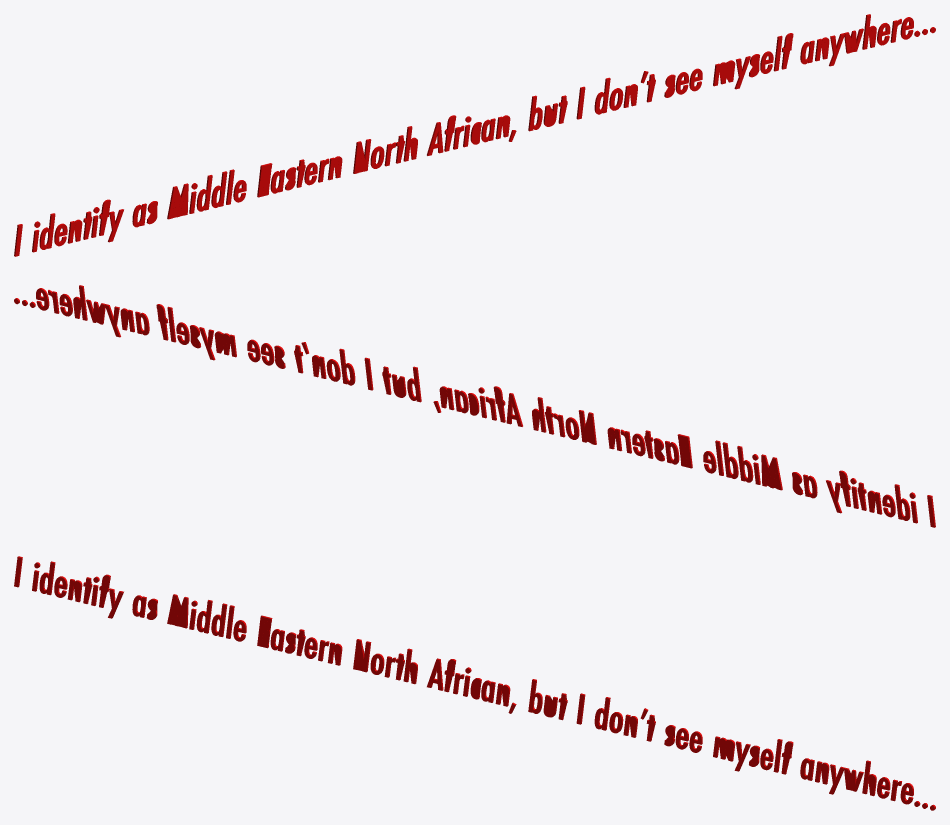
File: new_IIdentifyAsMENABut.fbx
The picture shows the model from 3 angles, top to bottom: view 1: azimuth 30°, elevation 25°; view 2: azimuth 150°, elevation 25°; view 3: azimuth 330°, elevation 25°; orthographic projection.
Visible parts, largest first — view 1: bevelPolygon18; view 2: bevelPolygon18; view 3: bevelPolygon18.
Part boxes in pixels (x1=…): bevelPolygon18: x1=167, y1=183, x2=188, y2=219; bevelPolygon18: x1=761, y1=454, x2=782, y2=490; bevelPolygon18: x1=167, y1=594, x2=188, y2=628.
Bounding box in the file's own units: 9.11 × 0.3966 × 0.02.
